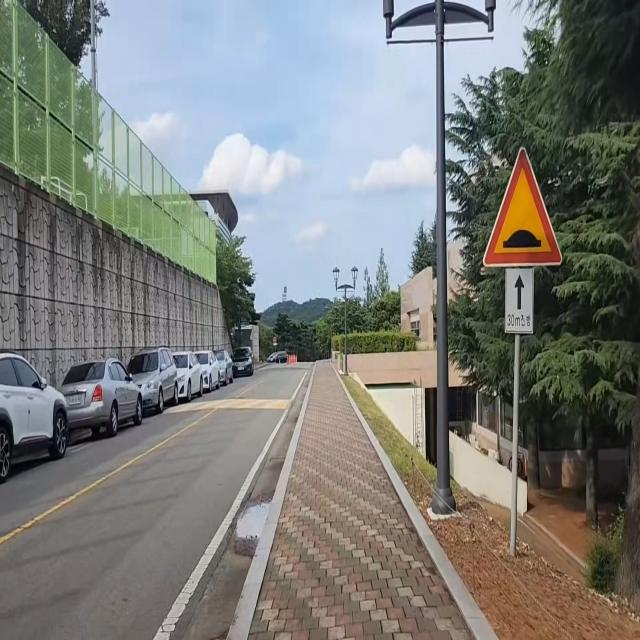obstacle: (482, 153, 564, 561), (432, 25, 458, 520)
sidewalk: (223, 369, 502, 640)
